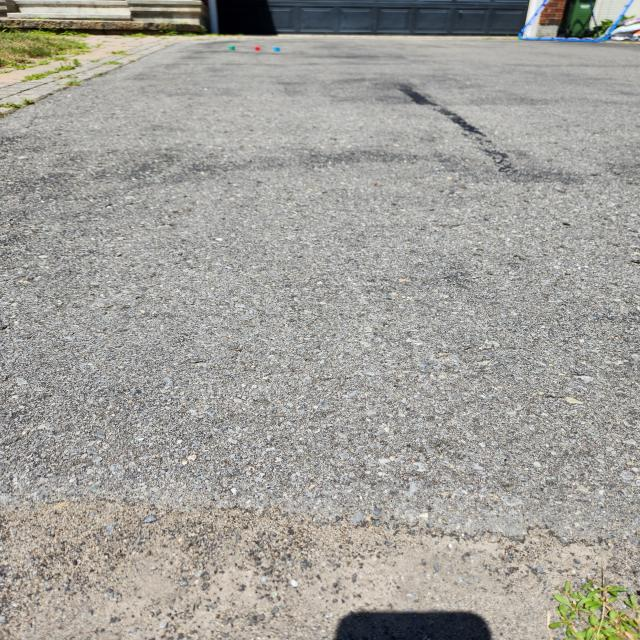bluecube: (273, 46, 280, 52)
green cube: (229, 46, 234, 50)
red cube: (255, 46, 260, 51)
